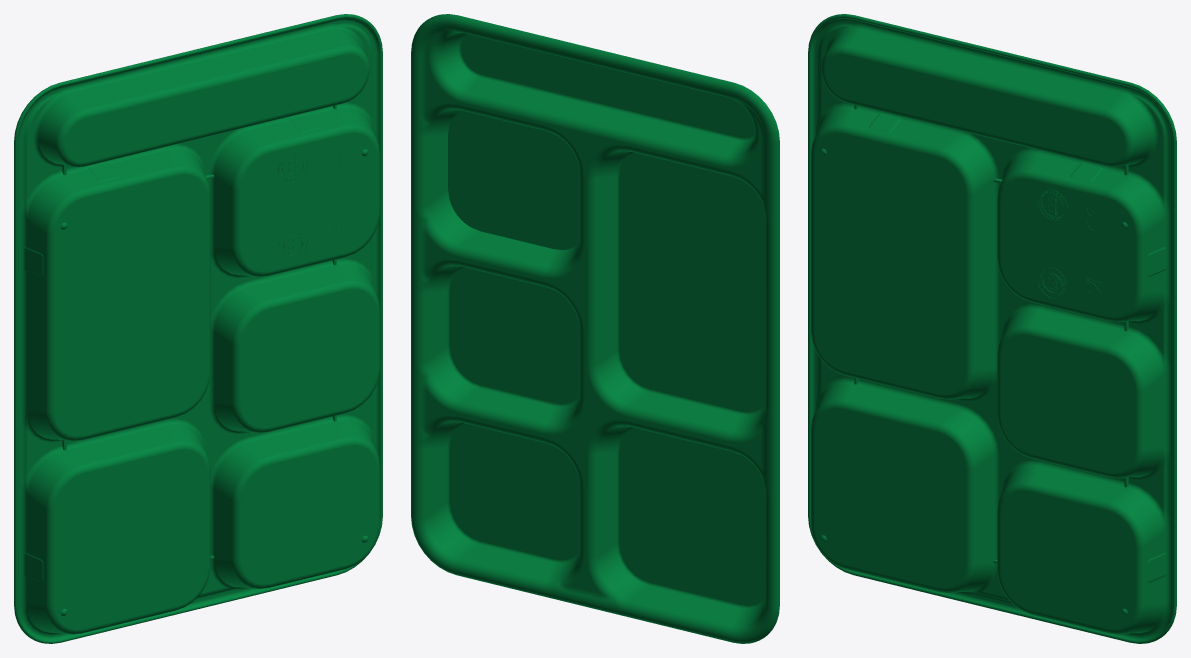
3 views of the same model, side by side, from view 1: azimuth 30°, elevation 25°; view 2: azimuth 150°, elevation 25°; view 3: azimuth 330°, elevation 25° (orthographic).
Visible parts, largest first — view 1: Tepsi-kalibi; view 2: Tepsi-kalibi; view 3: Tepsi-kalibi.
Part boxes in pixels (x1,y1,x2,y2): Tepsi-kalibi: (14, 14, 382, 643); Tepsi-kalibi: (411, 14, 779, 643); Tepsi-kalibi: (808, 14, 1176, 643).
Bounding box in the file's own units: 0.2534 × 0.368 × 0.0248.
